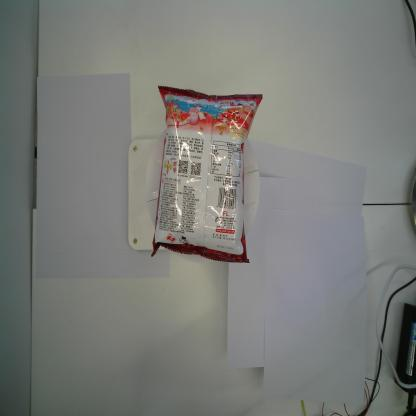Puffed Food: (151, 85, 263, 265)
